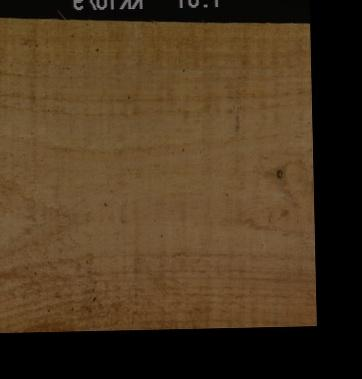dry_knot: (274, 167, 282, 178)
